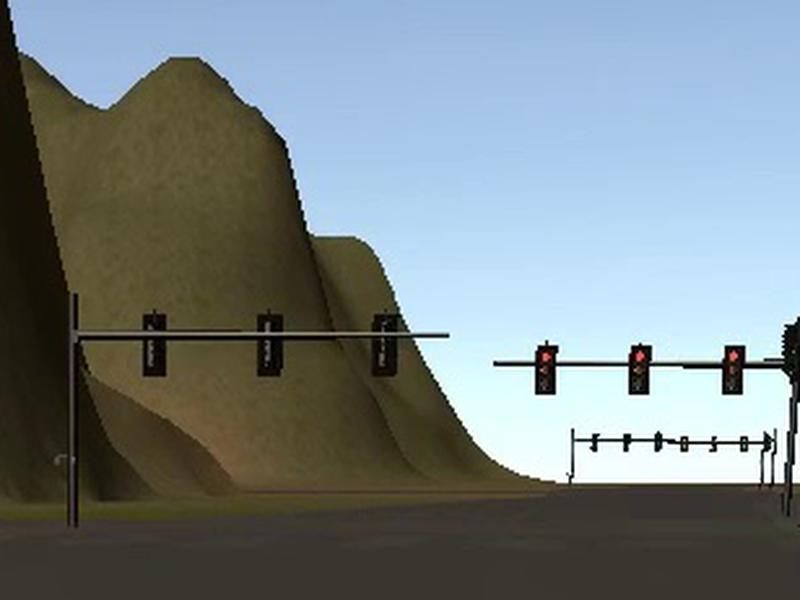Red: (720, 344, 745, 396), (533, 344, 558, 395), (627, 344, 652, 394)
